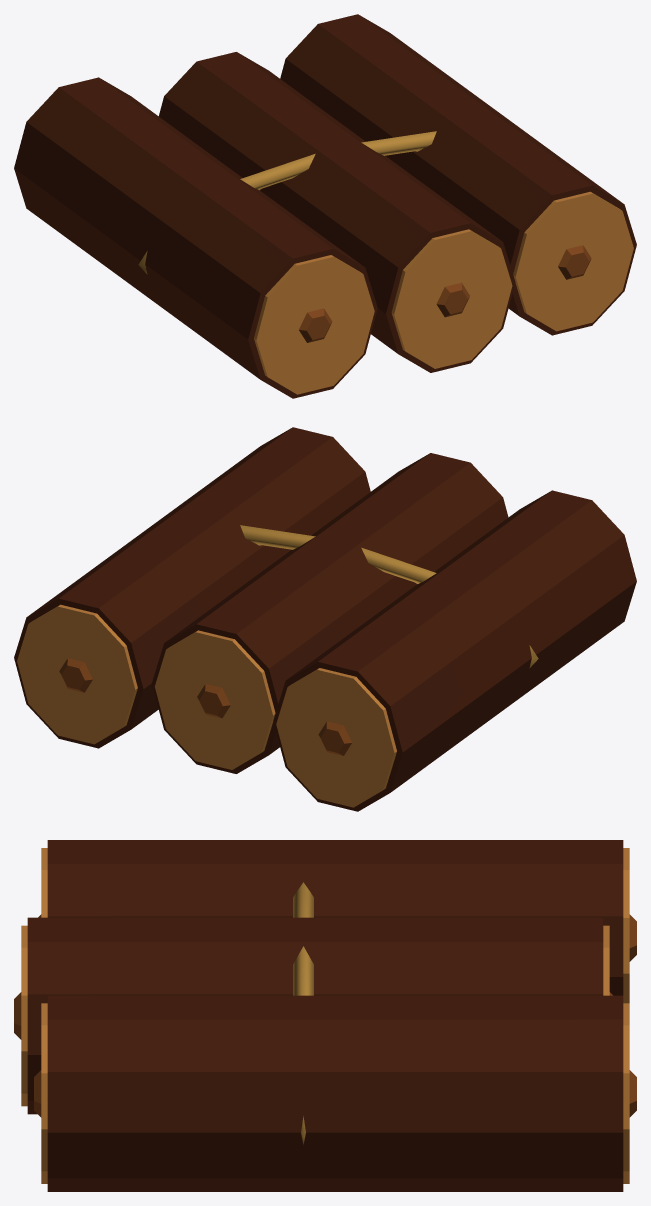
Rendered from pile-wood-3.obj.
The picture shows the model from 3 angles, top to bottom: view 1: azimuth 30°, elevation 25°; view 2: azimuth 150°, elevation 25°; view 3: azimuth 270°, elevation 25°; orthographic projection. The views are drawn at different scales.
Visible parts, largest first — view 1: pile-wood-3; view 2: pile-wood-3; view 3: pile-wood-3.
Boxes of the visible parts, bbox=[...] form: pile-wood-3: bbox=[14, 14, 636, 398]; pile-wood-3: bbox=[14, 427, 636, 811]; pile-wood-3: bbox=[14, 840, 636, 1191].
Size of the model in its own units: 0.7107 by 0.2378 by 0.779.
Materials: 1 (1 with a texture image).
